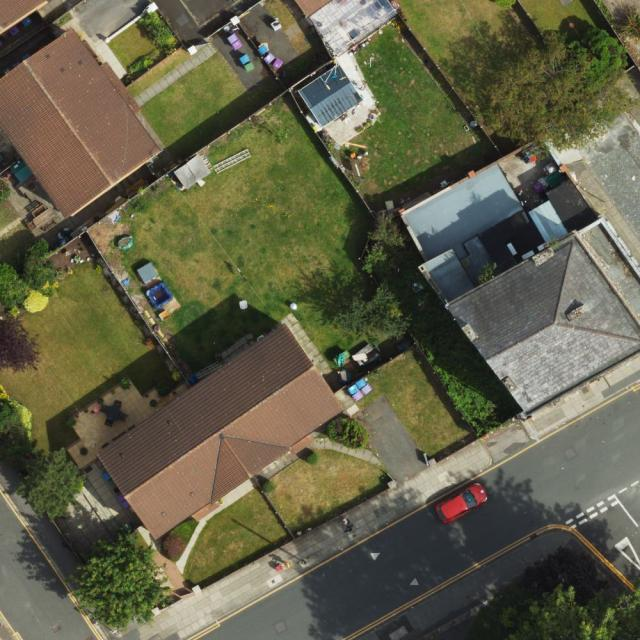roof: (97, 323, 344, 542), (446, 233, 640, 418), (1, 29, 165, 219), (0, 0, 52, 37)
